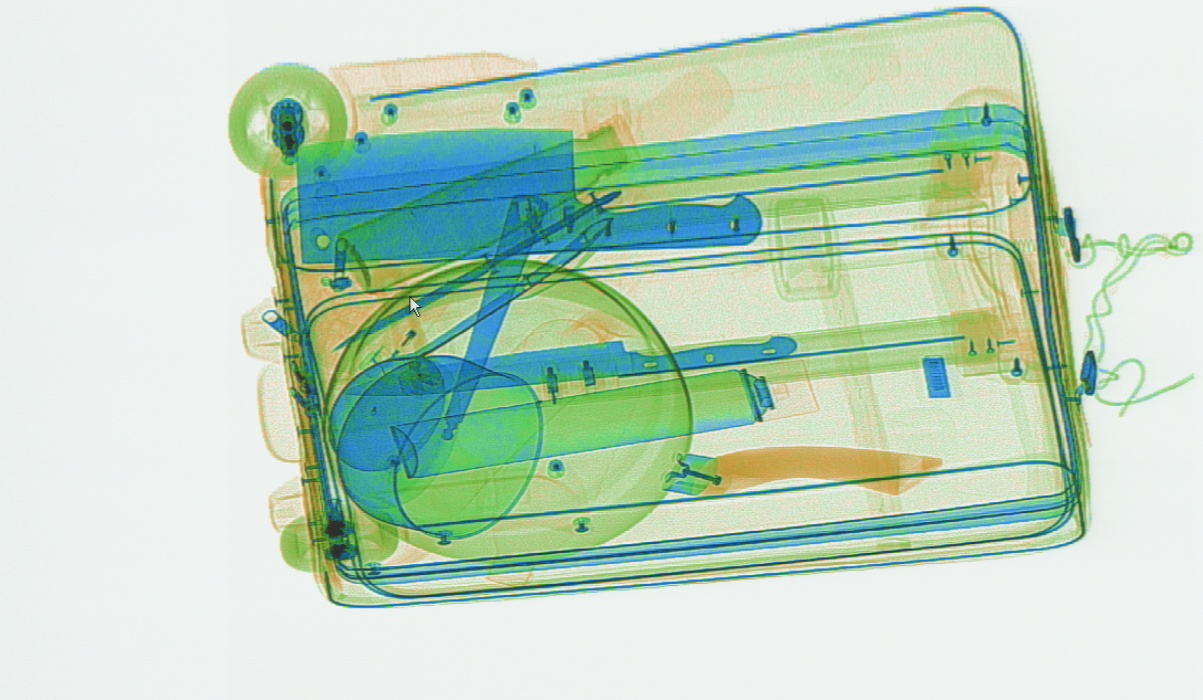knife: (290, 125, 761, 267), (332, 188, 625, 351), (340, 329, 794, 397)
lighter: (363, 267, 455, 374)
pressure: (389, 356, 817, 479)
